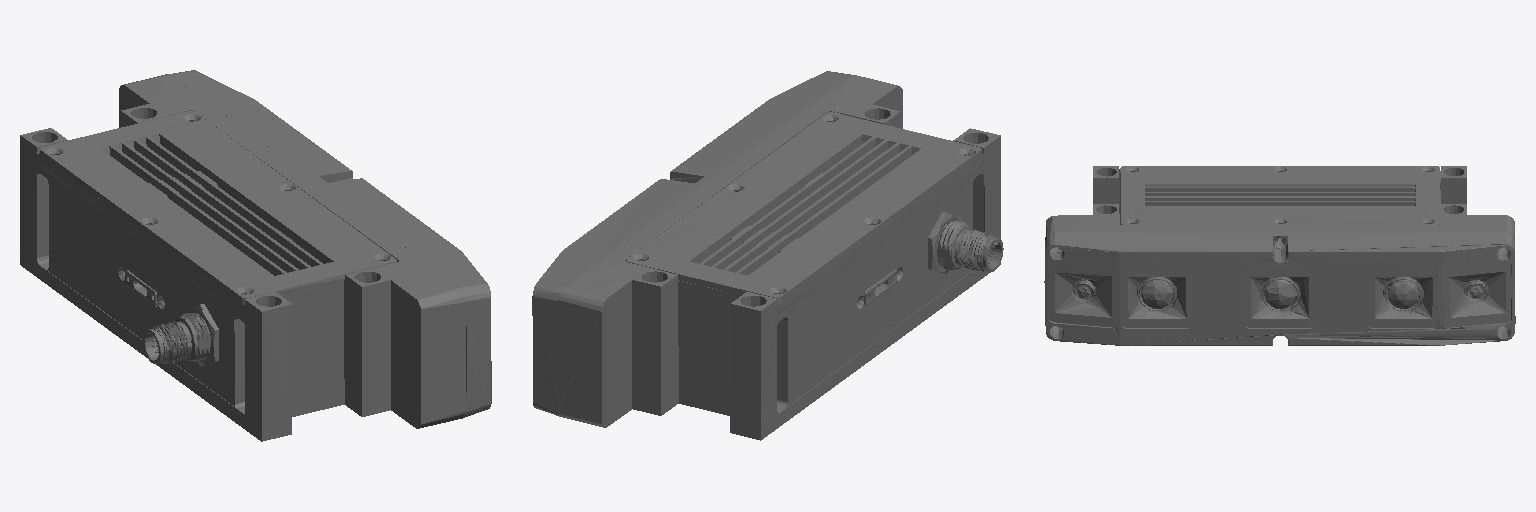
robot.urdf — realsense_d585_standalone:
<?xml version='1.0' encoding='utf-8'?>
<robot name="realsense_d585_standalone">
  <mujoco>
    <compiler discardvisual="false" fusestatic="false" />
  </mujoco>
  <material name="aluminum">
    <color rgba="0.5 0.5 0.5 1" />
  </material>
  <material name="plastic">
    <color rgba="0.1 0.1 0.1 1" />
  </material>
  <link name="realsense_d585_mount" />
  
  <joint name="camera_joint" type="fixed">
    <origin rpy="0 0 0" xyz="0 0 0" />
    <parent link="realsense_d585_mount" />
    <child link="camera_bottom_screw_frame" />
  </joint>
  <link name="camera_bottom_screw_frame" />
  <joint name="camera_link_joint" type="fixed">
    <origin rpy="0 0 0" xyz="0.0363 0.0475 0.0215" />
    <parent link="camera_bottom_screw_frame" />
    <child link="camera_link" />
  </joint>
  <link name="camera_link">
    <visual>
      
      
      <origin rpy="1.5707963267948966 0 1.5707963267948966" xyz="0.0057 -0.0475 0" />
      <geometry>
        
        <mesh filename="../meshes/mujoco/d585.stl" scale="0.001 0.001 0.001" />
      </geometry>
      <material name="aluminum" />
    </visual>
    <collision>
      <origin rpy="0 0 0" xyz="-0.04095 -0.0475 0" />
      <geometry>
        <box size="0.0931 0.182 0.043" />
      </geometry>
    </collision>
    <inertial>
      
      <mass value="0.072" />
      <origin xyz="0 0 0" />
      <inertia ixx="0.003881243" ixy="0.0" ixz="0.0" iyy="0.000498940" iyz="0.0" izz="0.003879257" />
    </inertial>
  </link>
  
  <joint name="camera_depth_joint" type="fixed">
    <origin rpy="0 0 0" xyz="0 0 0" />
    <parent link="camera_link" />
    <child link="camera_depth_frame" />
  </joint>
  <link name="camera_depth_frame" />
  <joint name="camera_depth_optical_joint" type="fixed">
    <origin rpy="-1.5707963267948966 0 -1.5707963267948966" xyz="0 0 0" />
    <parent link="camera_depth_frame" />
    <child link="camera_depth_optical_frame" />
  </joint>
  <link name="camera_depth_optical_frame" />
  
  <joint name="camera_infra1_joint" type="fixed">
    <origin rpy="0 0 0" xyz="0 0.0 0" />
    <parent link="camera_link" />
    <child link="camera_infra1_frame" />
  </joint>
  <link name="camera_infra1_frame" />
  <joint name="camera_infra1_optical_joint" type="fixed">
    <origin rpy="-1.5707963267948966 0 -1.5707963267948966" xyz="0 0 0" />
    <parent link="camera_infra1_frame" />
    <child link="camera_infra1_optical_frame" />
  </joint>
  <link name="camera_infra1_optical_frame" />
  
  <joint name="camera_infra2_joint" type="fixed">
    <origin rpy="0 0 0" xyz="0 -0.095 0" />
    <parent link="camera_link" />
    <child link="camera_infra2_frame" />
  </joint>
  <link name="camera_infra2_frame" />
  <joint name="camera_infra2_optical_joint" type="fixed">
    <origin rpy="-1.5707963267948966 0 -1.5707963267948966" xyz="0 0 0" />
    <parent link="camera_infra2_frame" />
    <child link="camera_infra2_optical_frame" />
  </joint>
  <link name="camera_infra2_optical_frame" />
  
  <joint name="camera_color_joint" type="fixed">
    <origin rpy="0 0 0" xyz="0 -0.0475 0" />
    <parent link="camera_link" />
    <child link="camera_color_frame" />
  </joint>
  <link name="camera_color_frame" />
  <joint name="camera_color_optical_joint" type="fixed">
    <origin rpy="-1.5707963267948966 0 -1.5707963267948966" xyz="0 0 0" />
    <parent link="camera_color_frame" />
    <child link="camera_color_optical_frame" />
  </joint>
  <link name="camera_color_optical_frame" />
  
  <joint name="camera_labeled_point_cloud_joint" type="fixed">
    <origin rpy="0 0 0" xyz="0 0 0" />
    <parent link="camera_link" />
    <child link="camera_labeled_point_cloud_frame" />
  </joint>
  <link name="camera_labeled_point_cloud_frame" />
  <joint name="camera_labeled_point_cloud_optical_joint" type="fixed">
    <origin rpy="-1.5707963267948966 0 -1.5707963267948966" xyz="0 0 0" />
    <parent link="camera_labeled_point_cloud_frame" />
    <child link="camera_labeled_point_cloud_optical_frame" />
  </joint>
  <link name="camera_labeled_point_cloud_optical_frame" />
  
  <joint name="camera_occupancy_joint" type="fixed">
    <origin rpy="0 0 0" xyz="0 0 0" />
    <parent link="camera_link" />
    <child link="camera_occupancy_frame" />
  </joint>
  <link name="camera_occupancy_frame" />
  <joint name="camera_occupancy_optical_joint" type="fixed">
    <origin rpy="-1.5707963267948966 0 -1.5707963267948966" xyz="0 0 0" />
    <parent link="camera_occupancy_frame" />
    <child link="camera_occupancy_optical_frame" />
  </joint>
  <link name="camera_occupancy_optical_frame" />
  
  <link name="camera_accel_frame" />
  <link name="camera_accel_optical_frame" />
  <link name="camera_gyro_frame" />
  <link name="camera_gyro_optical_frame" />
  <link name="camera_imu_optical_frame" />
  <joint name="camera_accel_joint" type="fixed">
    <origin rpy="0 0 0" xyz="0.0114 -0.0195 0" />
    <parent link="camera_link" />
    <child link="camera_accel_frame" />
  </joint>
  <joint name="camera_accel_optical_joint" type="fixed">
    <origin rpy="-1.5707963267948966 0 -1.5707963267948966" xyz="0 0 0" />
    <parent link="camera_accel_frame" />
    <child link="camera_accel_optical_frame" />
  </joint>
  <joint name="camera_gyro_joint" type="fixed">
    <origin rpy="0 0 0" xyz="0.0114 -0.0195 0" />
    <parent link="camera_link" />
    <child link="camera_gyro_frame" />
  </joint>
  <joint name="camera_gyro_optical_joint" type="fixed">
    <origin rpy="-1.5707963267948966 0 -1.5707963267948966" xyz="0 0 0" />
    <parent link="camera_gyro_frame" />
    <child link="camera_gyro_optical_frame" />
  </joint>
  <joint name="camera_imu_optical_joint" type="fixed">
    <origin rpy="0 0 0" xyz="0 0 0" />
    <parent link="camera_gyro_optical_frame" />
    <child link="camera_imu_optical_frame" />
  </joint>
  
</robot>

--- Render facts (derived) ---
Views: 3 orthographic renders of the robot side by side, from view 1: azimuth 30°, elevation 25°; view 2: azimuth 150°, elevation 25°; view 3: azimuth 270°, elevation 25°.
Model realsense_d585_standalone with 20 links and 19 joints (19 fixed), rooted at realsense_d585_mount, posed all joints at 0.
Links seen in each view (by area): view 1: camera_link; view 2: camera_link; view 3: camera_link.
Boxes of the visible links, x1,y1,x2,y2 form: camera_link: (20, 70, 491, 441); camera_link: (532, 71, 1003, 440); camera_link: (1044, 166, 1515, 345).
Size in the robot's own frame: 0.093 by 0.1817 by 0.043 metres.
1 mesh visuals loaded from 1 distinct referenced files (1 binary STL).
